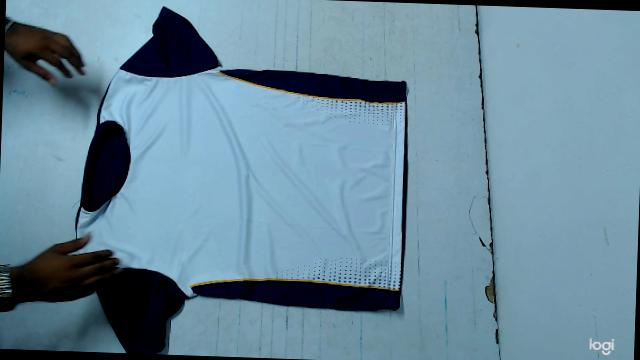new-garment: (76, 7, 407, 353)
